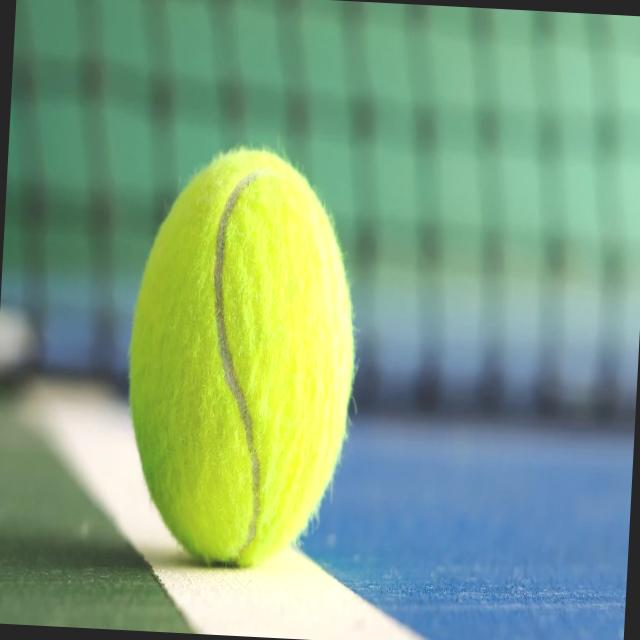Tennis Ball: (129, 150, 353, 568)
